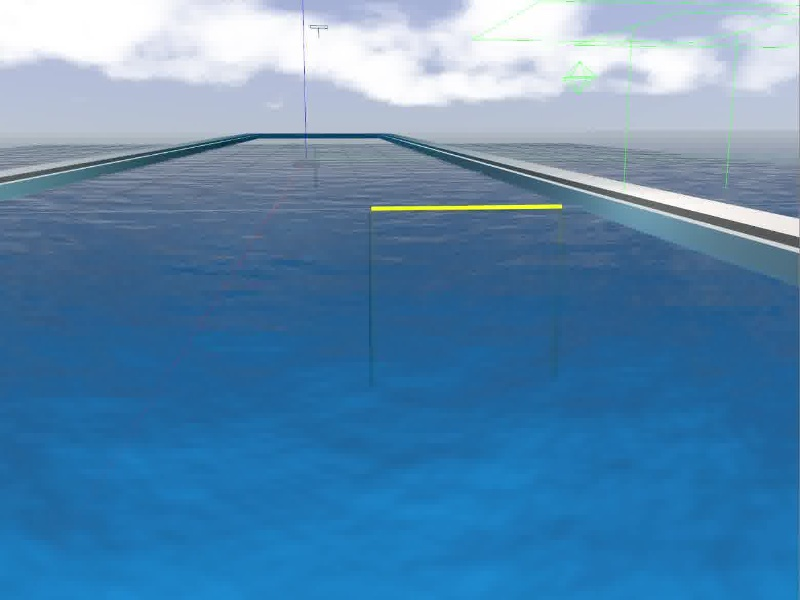gate: (368, 204, 563, 386)
